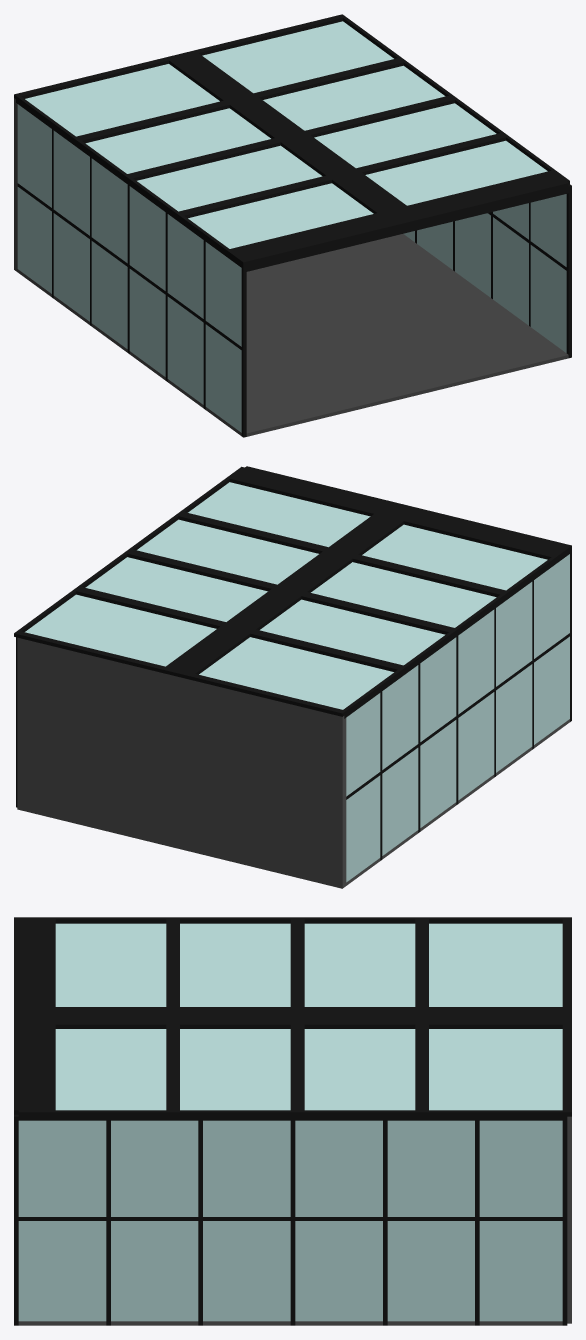
File: garage.glb
The picture shows the model from 3 angles, top to bottom: view 1: azimuth 30°, elevation 25°; view 2: azimuth 150°, elevation 25°; view 3: azimuth 270°, elevation 25°; orthographic projection. The views are drawn at different scales.
Parts seen in each view (by area): view 1: defaultobject; view 2: defaultobject; view 3: defaultobject.
Part boxes in pixels (<box>): defaultobject: <box>14,14,571,437</box>; defaultobject: <box>14,466,571,888</box>; defaultobject: <box>14,917,571,1325</box>.
Bounding box in the file's own units: 10 × 5.1 × 12.1.
Materials: 1 (1 with a texture image).
